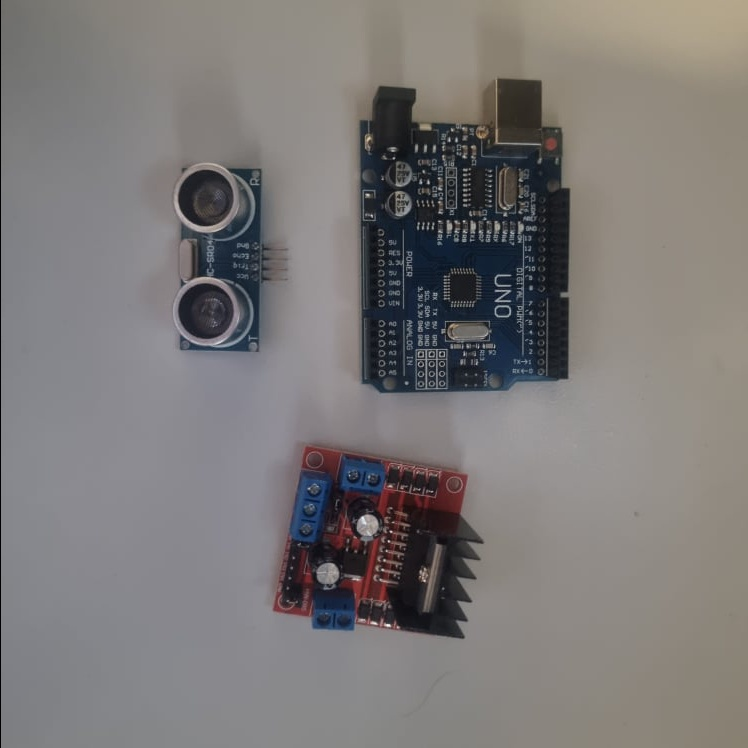MOTOR: (270, 443, 480, 647)
SENSOR: (164, 165, 291, 356)
UNO R3: (355, 79, 572, 396)
